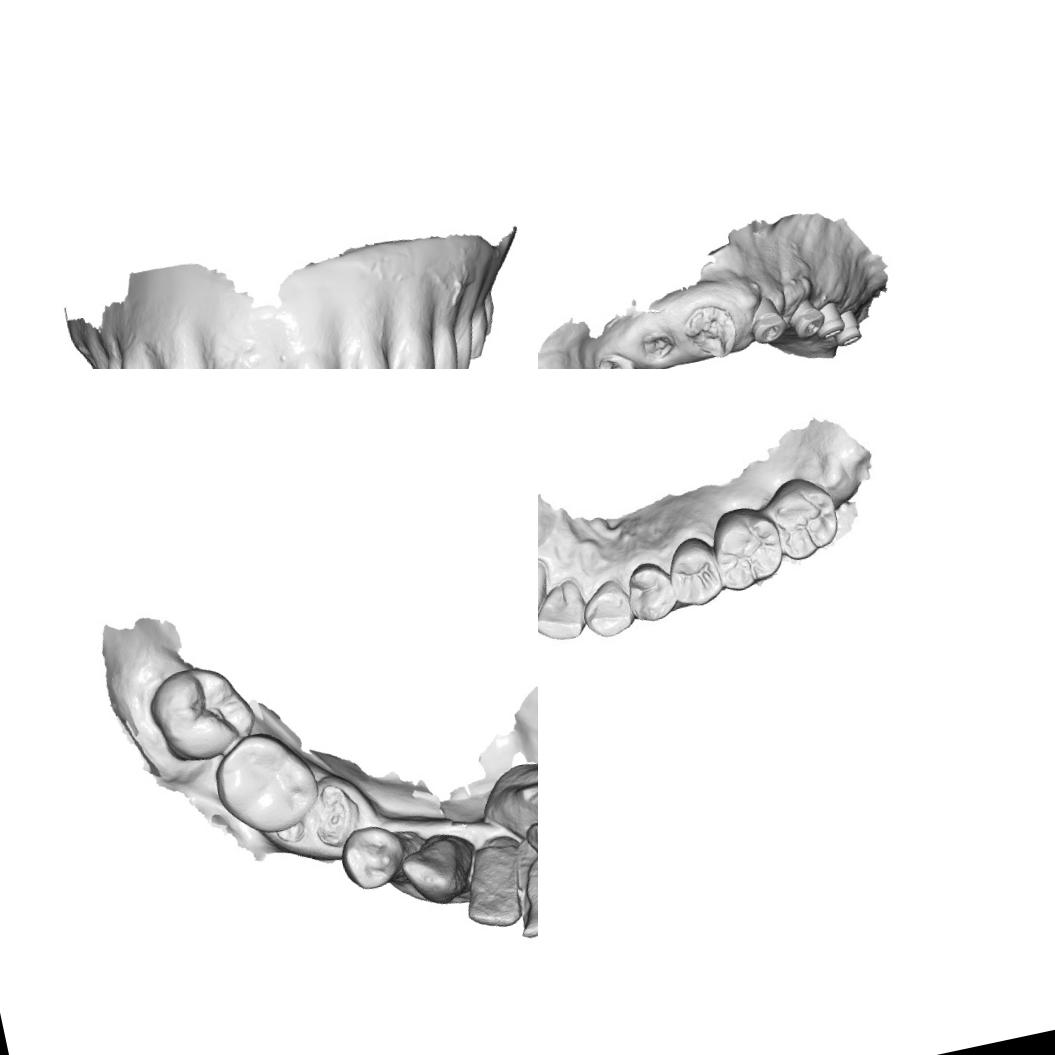canine: (397, 830, 474, 912), (576, 574, 634, 644), (377, 331, 447, 369)
implant_minus: (745, 306, 790, 347), (788, 298, 829, 340), (811, 299, 848, 341), (830, 308, 865, 348)
incisor: (452, 832, 534, 936), (538, 583, 592, 645), (508, 871, 538, 942), (330, 346, 400, 369)
molar: (204, 722, 327, 844), (139, 656, 258, 769), (758, 467, 848, 562), (703, 496, 788, 595)
premolar: (334, 819, 408, 895), (664, 531, 727, 613), (621, 556, 676, 628)
